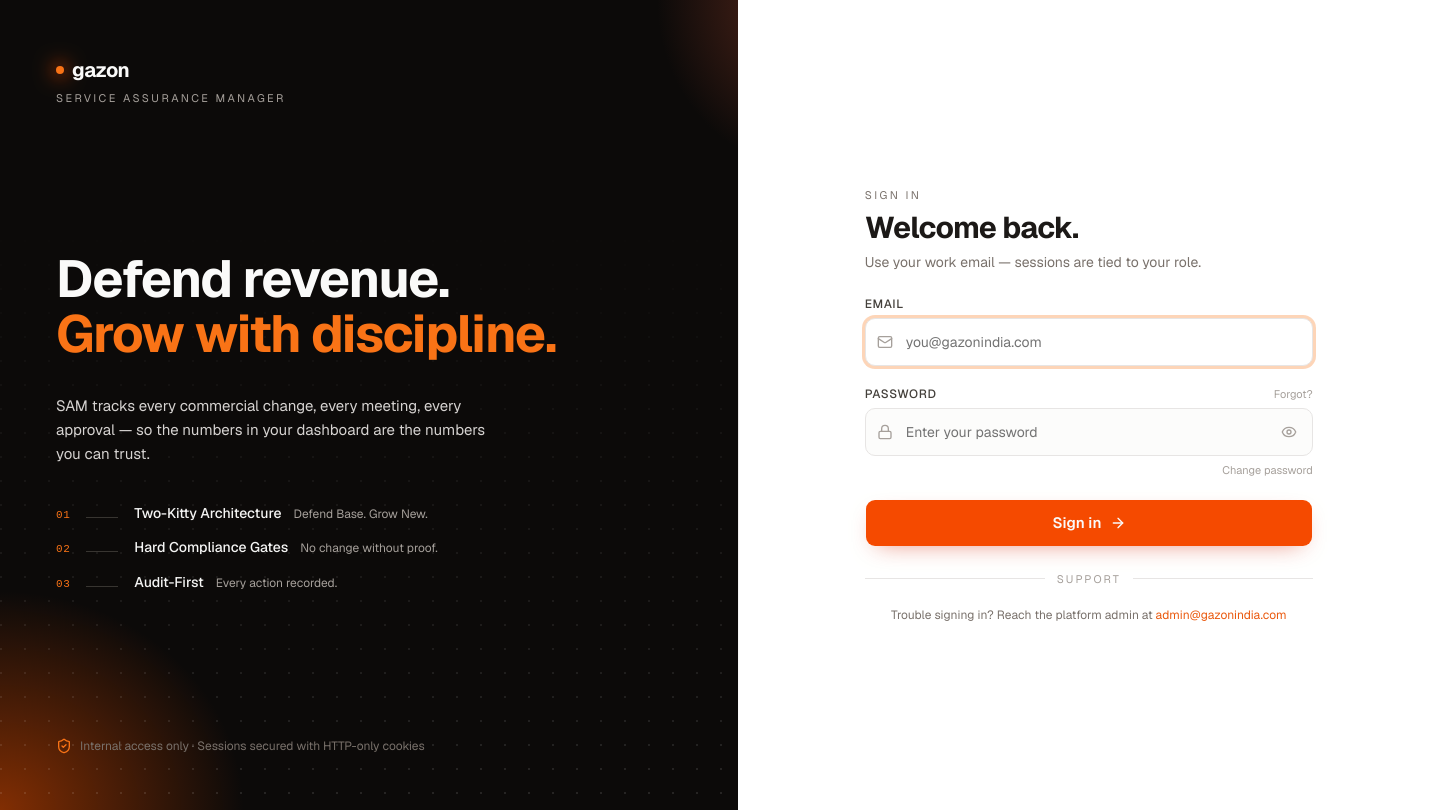
Test case: LoginPage › on 401 shows an inline error
Type "a@b.com" into the field labelled "Email" at (1089,342), box [865,318,1313,366]
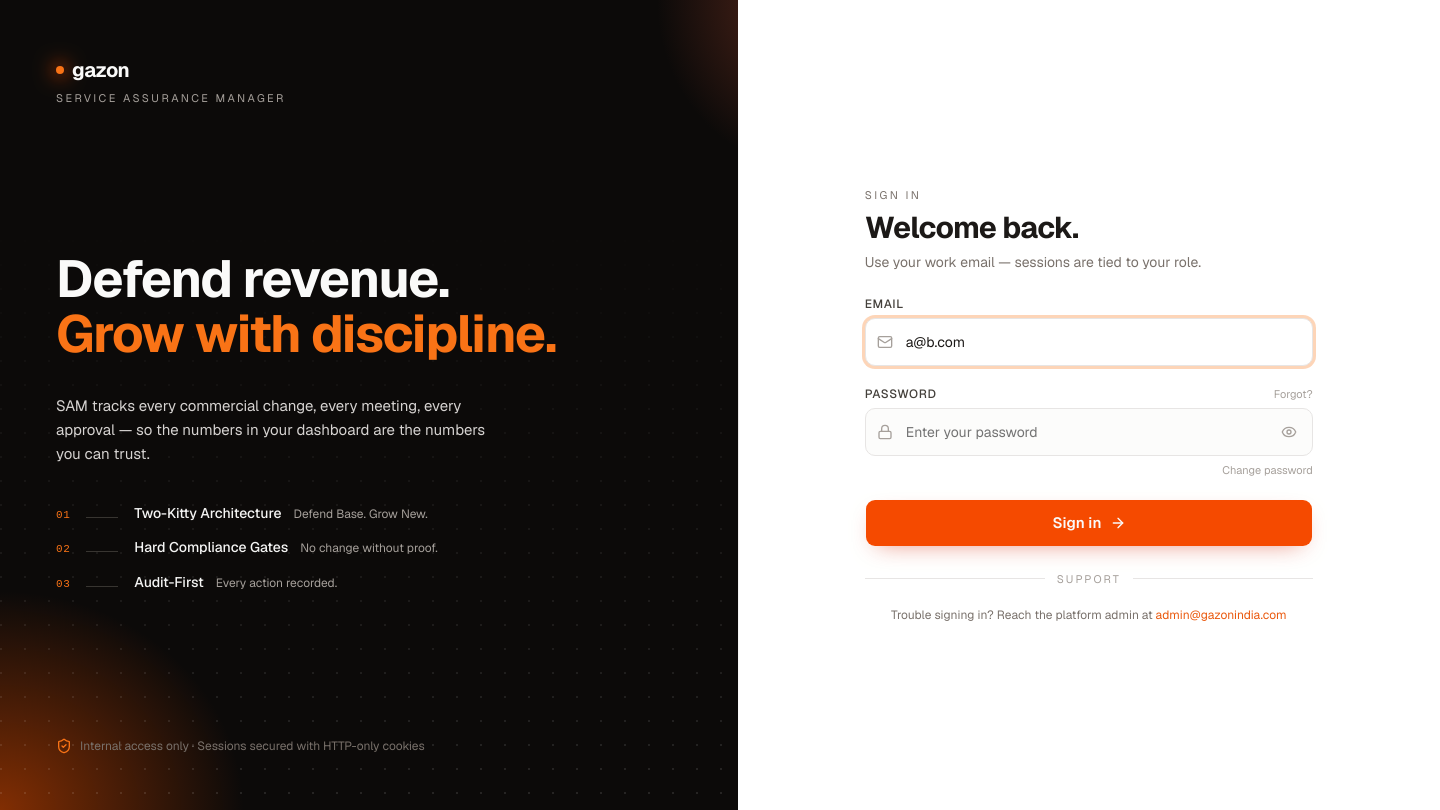
Type "wrong" into the password field labelled "Password" at (1089,432), box [865,408,1313,456]
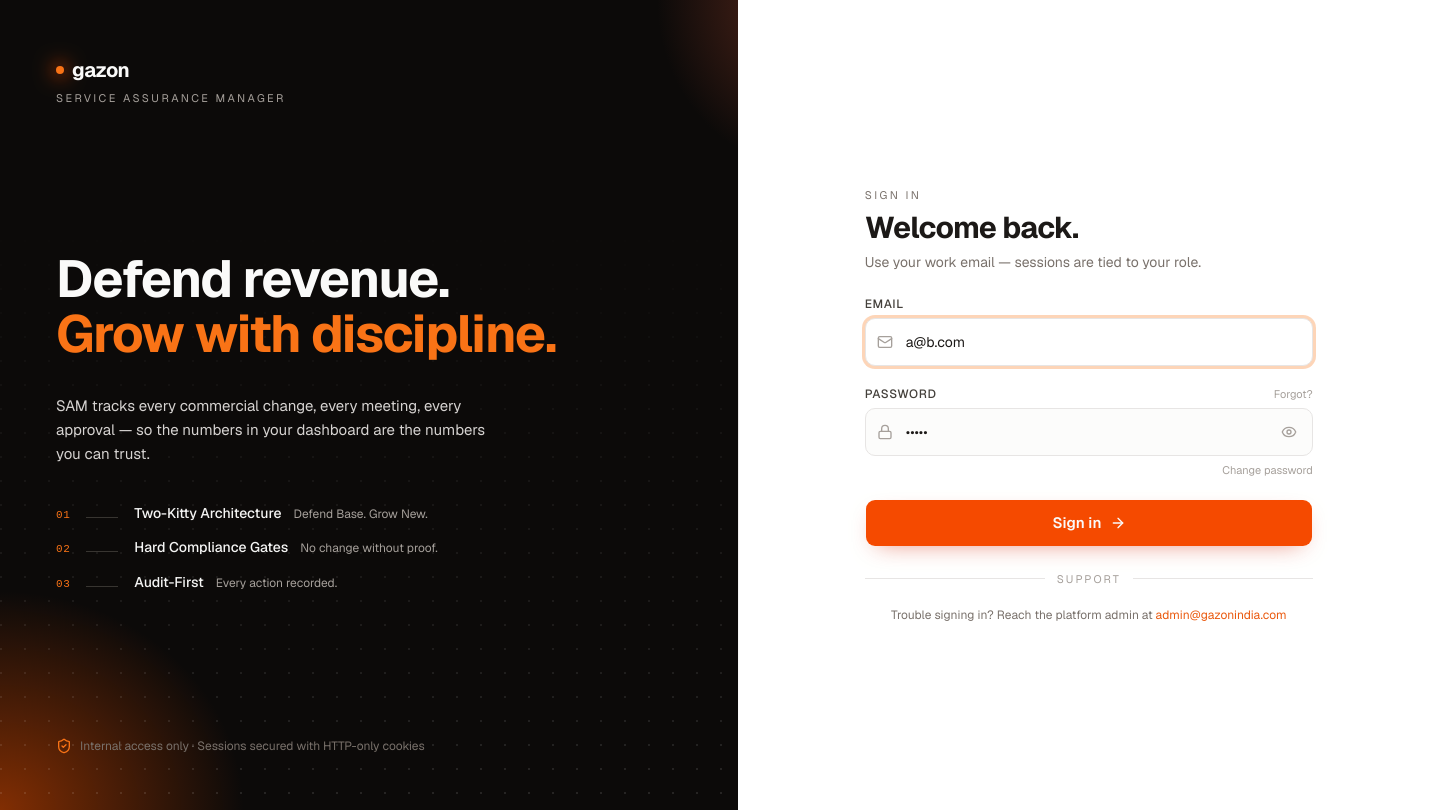
Click the button "Sign in" at (1089,522), box [865,498,1313,546]
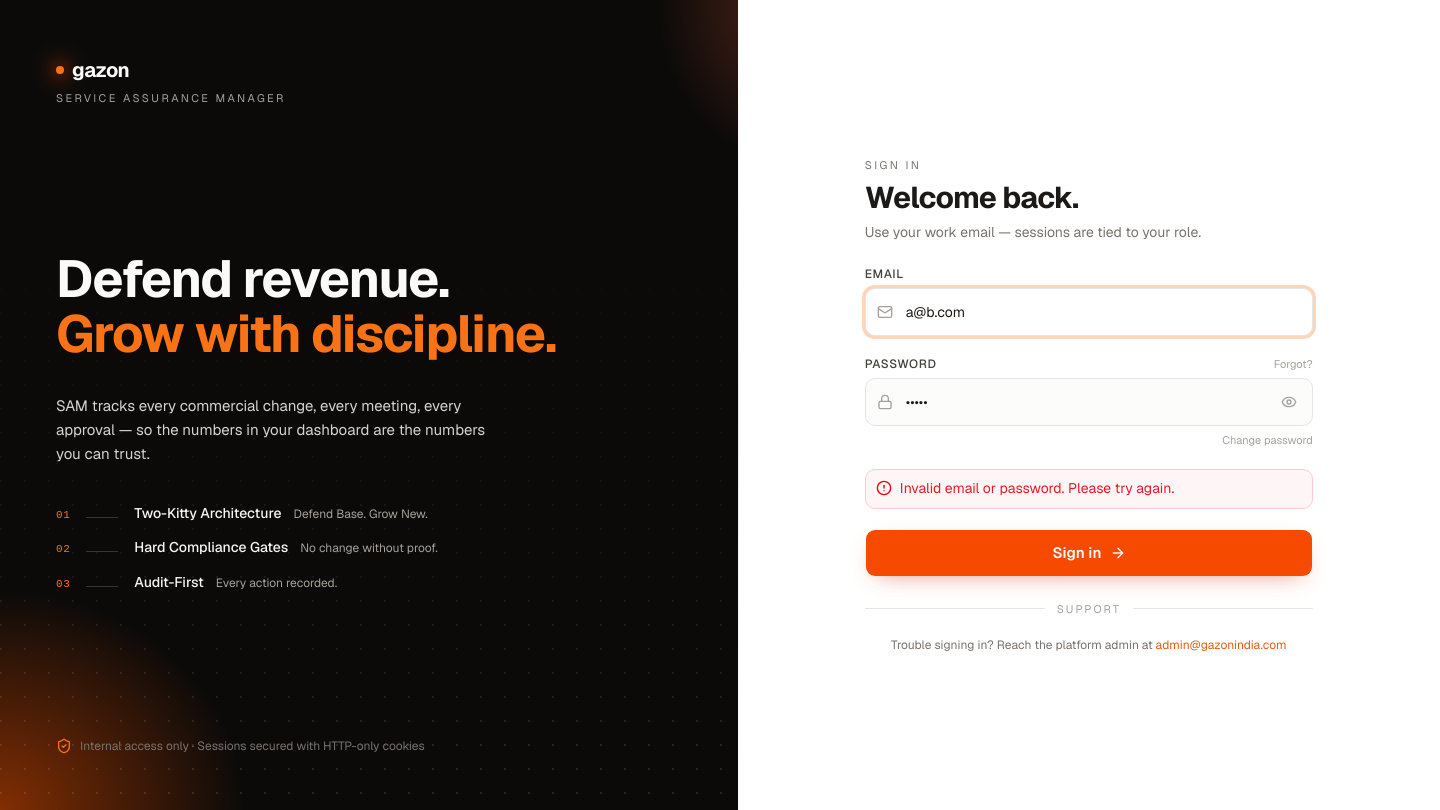
Check: the text "Invalid email or password. Please try again." is shown, box [900,478,1174,496]
